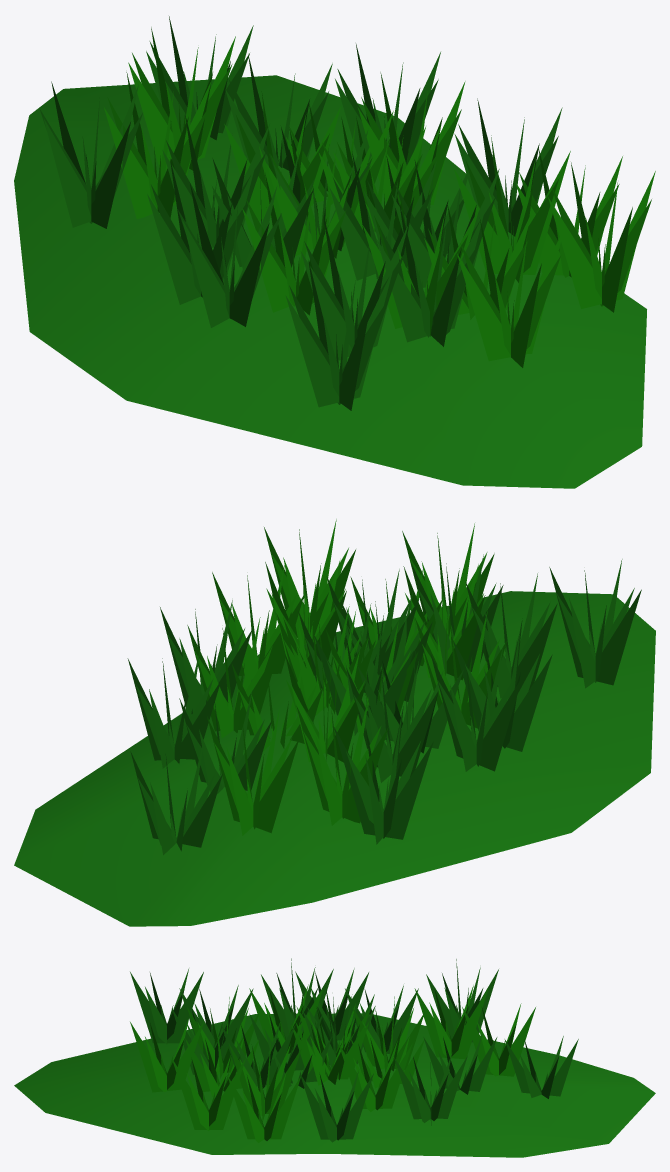
File: TuftOfGrass_435.obj
3 views of the same model, one above another, from view 1: azimuth 30°, elevation 25°; view 2: azimuth 150°, elevation 25°; view 3: azimuth 270°, elevation 25° (orthographic). The views are drawn at different scales.
Parts seen in each view (by area): view 1: ChamferCyl001, Plane_042, Plane_063, Plane_043, Plane_058, Plane_041, Plane_065, Plane_059, Plane_062, Plane_045, Plane_051, Plane_056 (+20 smaller); view 2: ChamferCyl001, Plane_058, Plane_042, Plane_051, Plane_056, Plane_039, Plane_059, Plane_048, Plane_060, Plane_057, Plane_041, Plane_046 (+20 smaller); view 3: ChamferCyl001, Plane_063, Plane_061, Plane_059, Plane_039, Plane_043, Plane_042, Plane_064, Plane_062, Plane_051, Plane_060, Plane_048 (+20 smaller).
Part boxes in pixels (x1,y1,x2,y2): ChamferCyl001: (14,75,646,488); Plane_042: (285,260,393,410); Plane_063: (548,162,655,312); Plane_043: (457,219,564,367); Plane_058: (39,81,142,228); Plane_041: (178,183,281,327); Plane_065: (376,203,484,346); Plane_059: (104,72,211,218); Plane_062: (454,135,570,282); Plane_045: (242,173,349,315); Plane_051: (128,27,235,170); Plane_056: (147,159,254,304); ChamferCyl001: (14,591,655,926); Plane_058: (333,713,433,844); Plane_042: (549,559,641,688); Plane_051: (207,709,299,835); Plane_056: (430,646,522,771); Plane_039: (127,649,221,768); Plane_059: (296,697,388,825); Plane_048: (130,744,222,855); Plane_060: (187,617,279,738); Plane_057: (346,661,438,782); Plane_041: (452,627,552,751); Plane_046: (465,573,557,698); ChamferCyl001: (14,1013,655,1157); Plane_063: (172,1055,245,1130); Plane_061: (300,1070,373,1142); Plane_059: (414,985,488,1059); Plane_039: (393,1052,467,1125); Plane_043: (130,1019,203,1092); Plane_042: (130,969,203,1044); Plane_064: (227,1072,300,1142); Plane_062: (228,1032,301,1121); Plane_051: (462,1003,535,1076); Plane_060: (338,1040,412,1111); Plane_048: (504,1036,578,1098).
Size of the model in its own units: 95.72 by 27.36 by 176.
